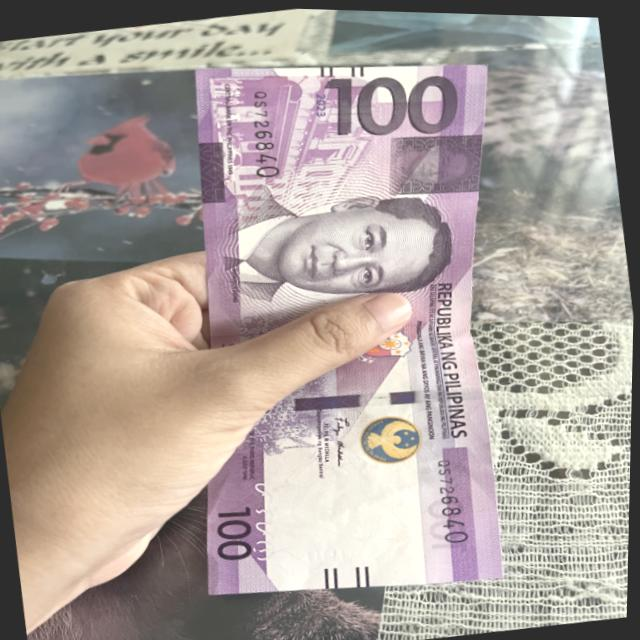concealed_value: (390, 133, 482, 193)
security_thread: (267, 384, 486, 412)
see_through_mark: (243, 473, 286, 567)
value: (321, 57, 467, 149), (207, 500, 264, 565)
value_watermark: (306, 539, 356, 568)
watermark: (270, 451, 436, 574)
